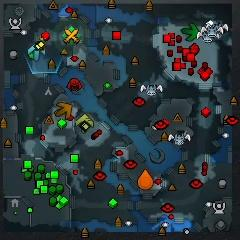Other: (62, 26, 82, 46)
p5: (138, 170, 153, 190)
x2: (75, 114, 94, 133)
x3: (28, 44, 46, 61)
x4: (181, 24, 199, 42)
x5: (55, 102, 73, 118)
